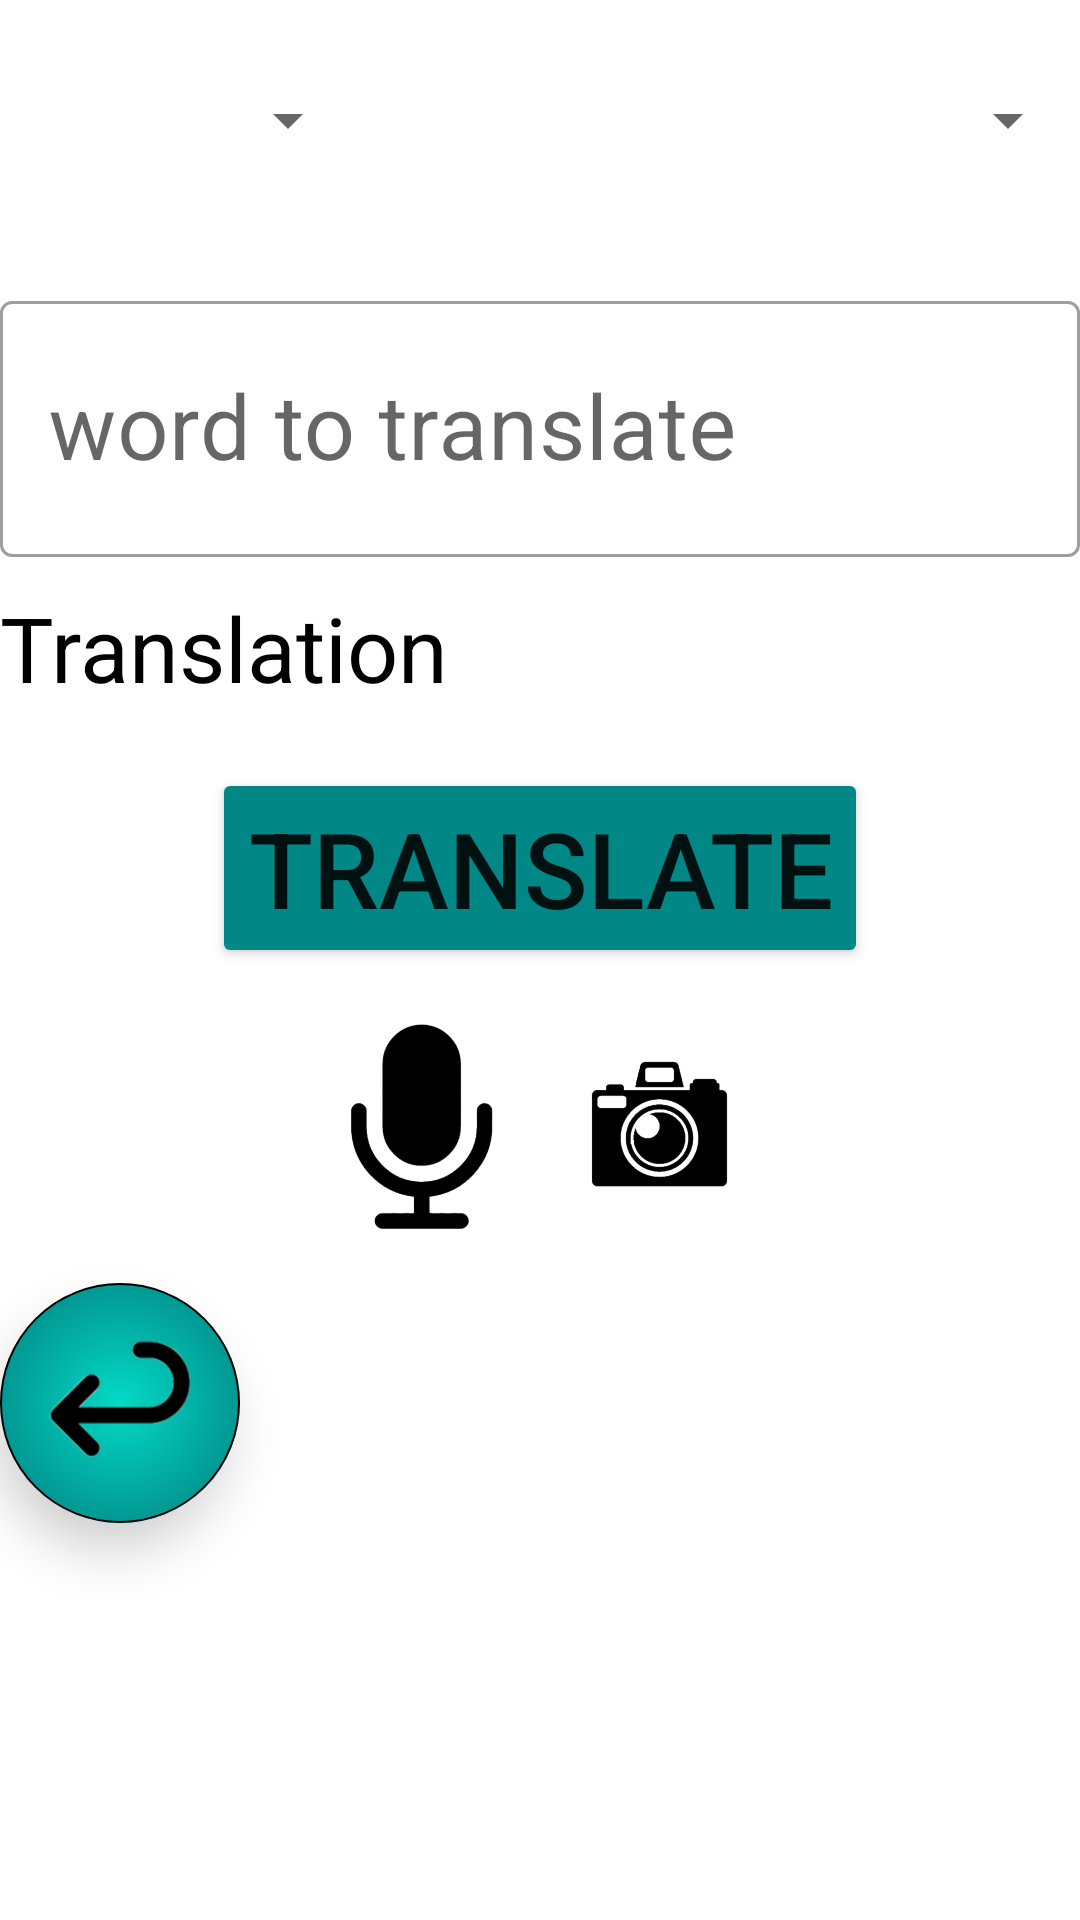

Locate icon controls on the screen. Image size 1080 × 1920, boxes as (x1, y1, x2, y2).
backward arrow: (0, 1283, 240, 1523)
camera: (592, 1061, 727, 1187)
mic: (351, 1024, 493, 1229)
